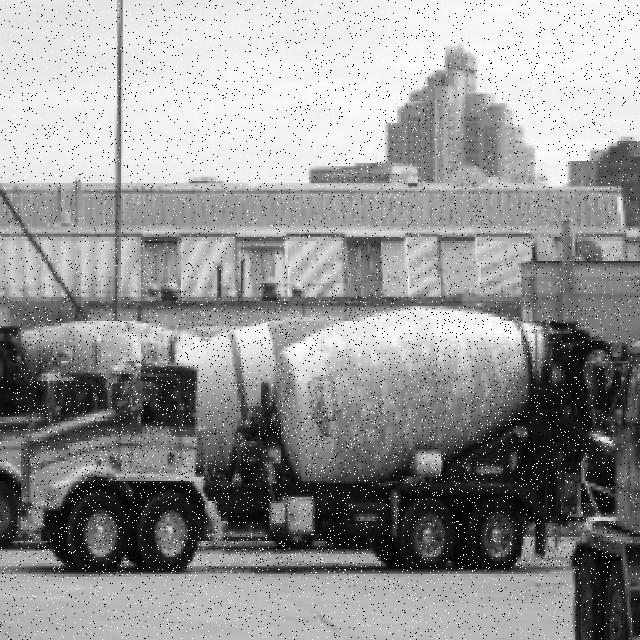Concrete Mixer: (16, 308, 612, 573)
